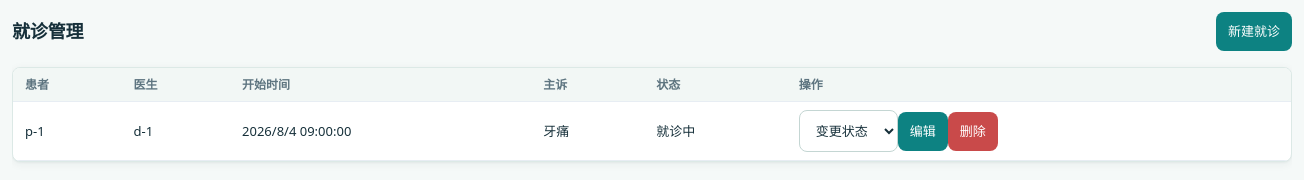
VisitsPage › transitions visit status with a toast
This screenshot has width=1304, height=180.
Select "已完成" in the dropdown named "变更就诊状态" at (848, 131), box [799, 110, 898, 152]
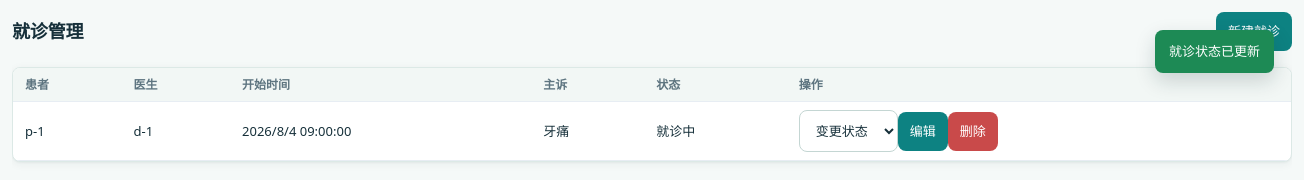
Expected: the text "就诊状态已更新" is shown, [1155, 30, 1274, 73]
